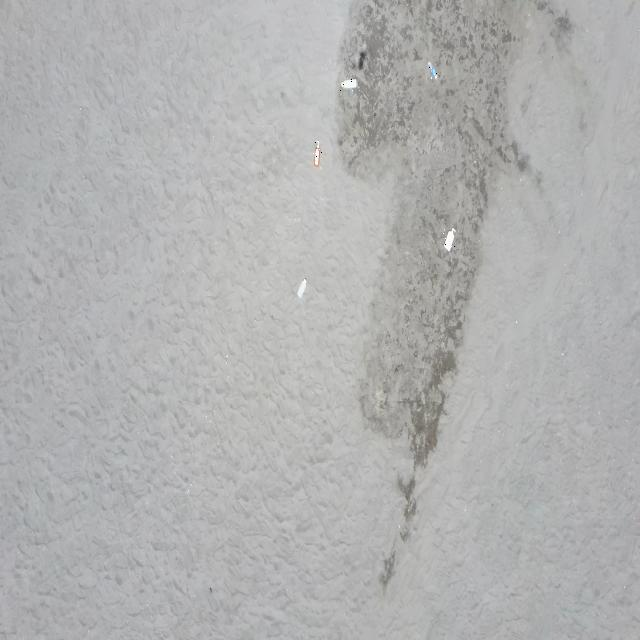Garbage: (444, 227, 455, 251), (296, 278, 306, 298), (313, 140, 320, 166), (357, 49, 366, 68), (340, 77, 355, 87), (427, 62, 436, 77)
